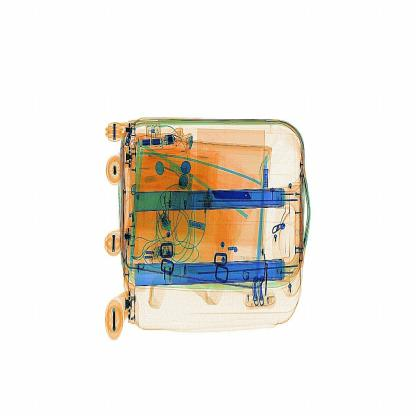pliers: (204, 182, 258, 212)
